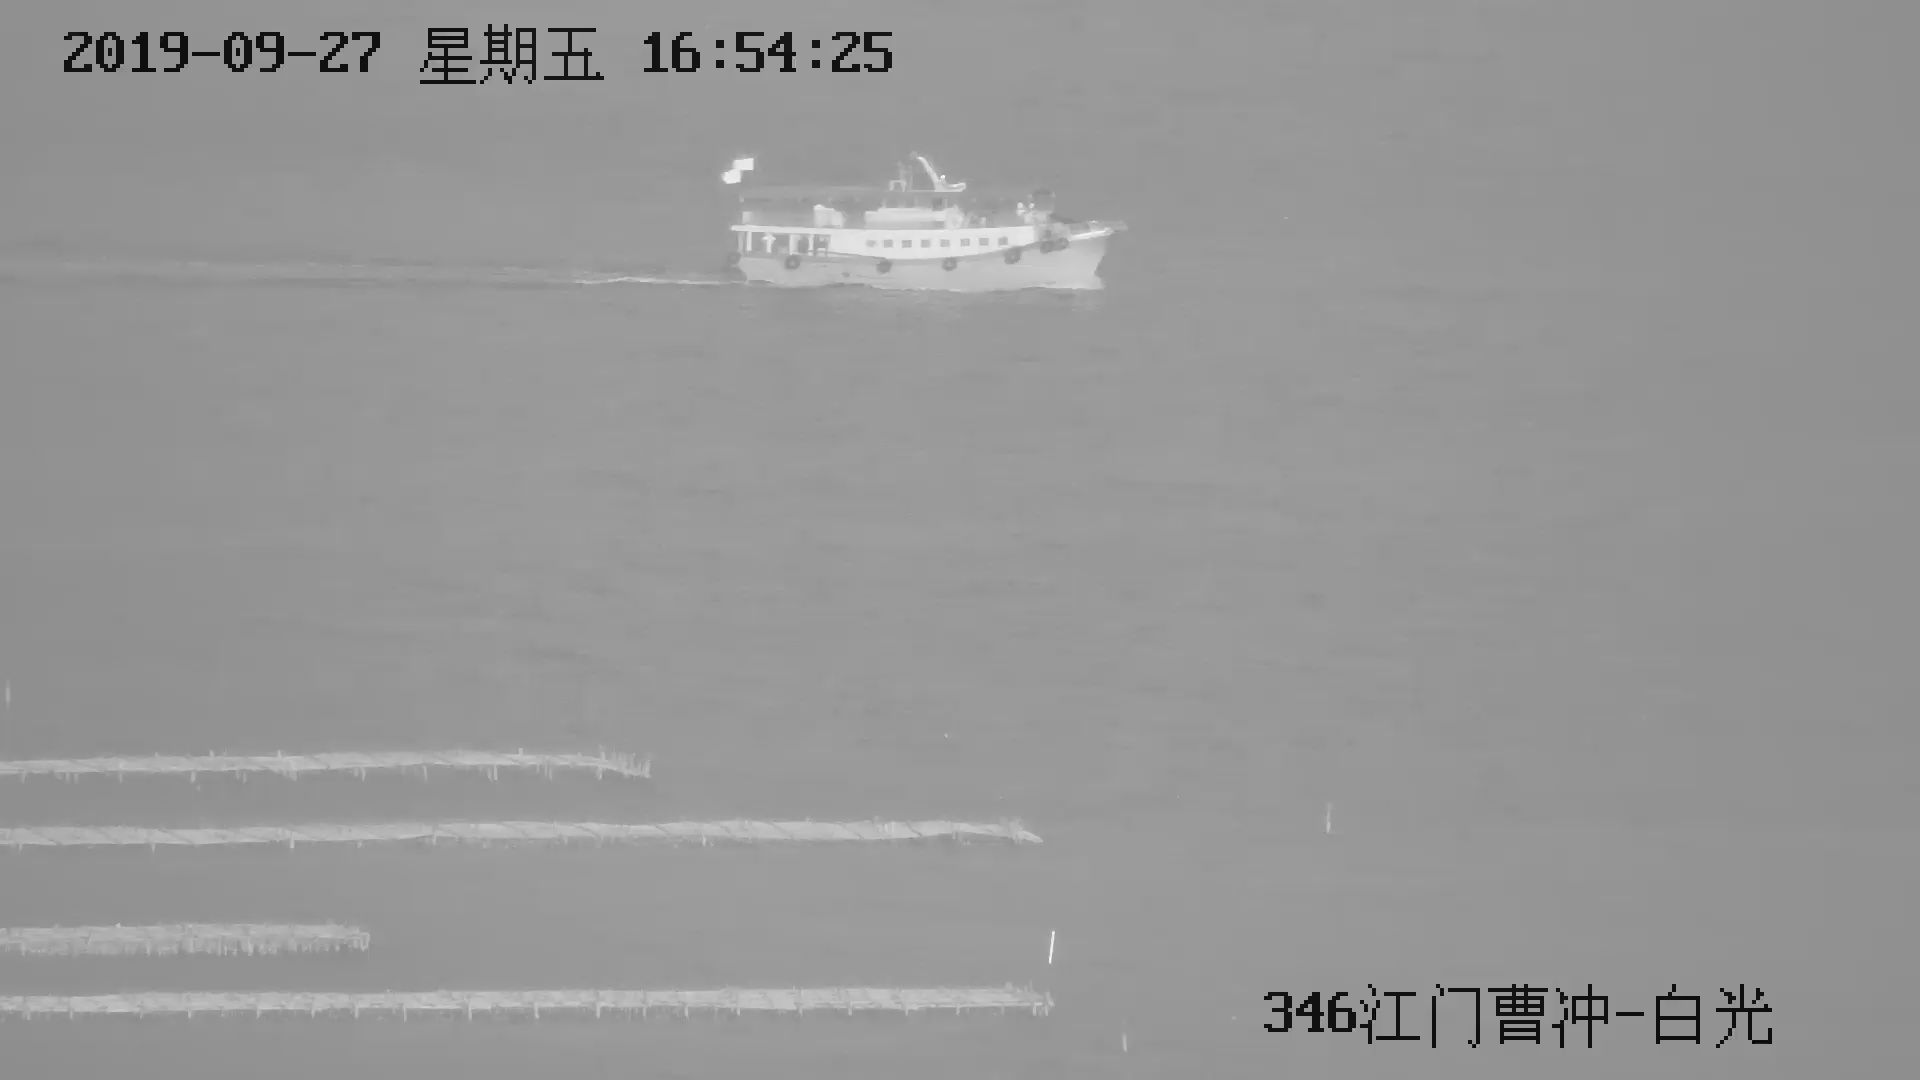ship: (717, 146, 1126, 302)
